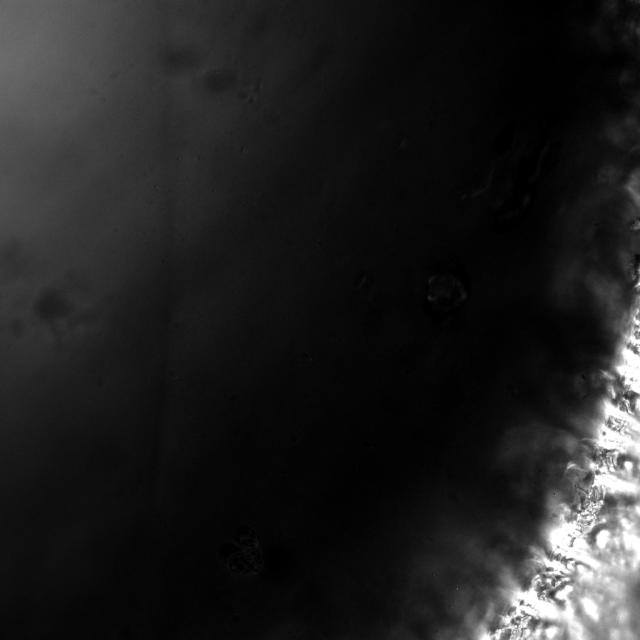organoid: (426, 272, 468, 314)
